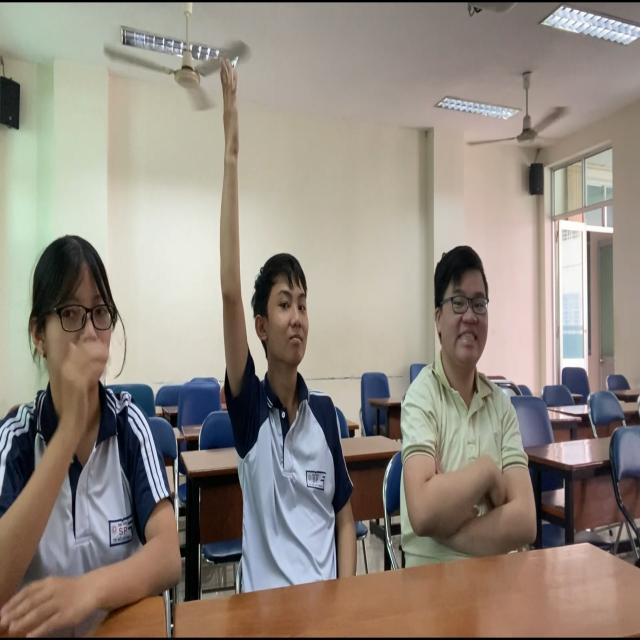raise_hand: (201, 43, 367, 609), (1, 224, 168, 640)
